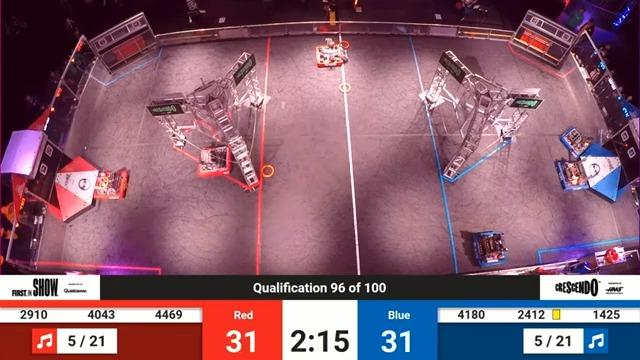robot: (466, 227, 514, 268), (194, 140, 237, 184), (555, 127, 604, 161), (308, 35, 353, 72), (91, 166, 131, 204), (547, 161, 592, 193)
